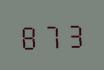eight: (18, 21, 39, 50)
seven: (41, 20, 62, 49)
three: (63, 19, 84, 48)
